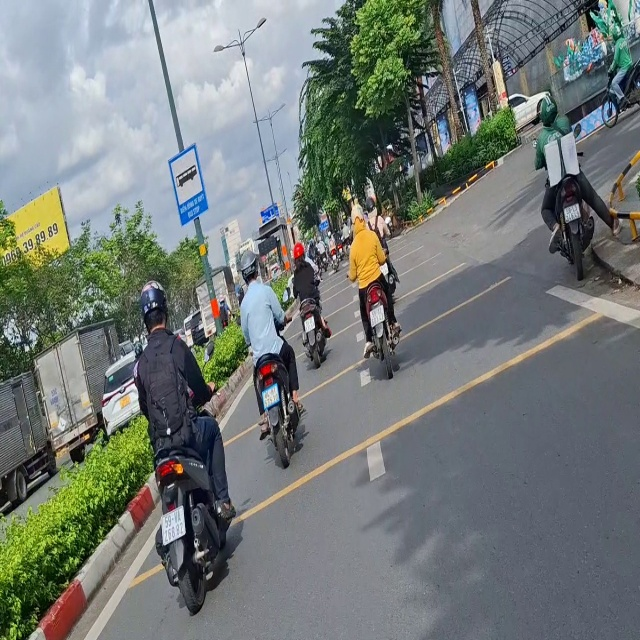xe buyt: (157, 141, 220, 232)
